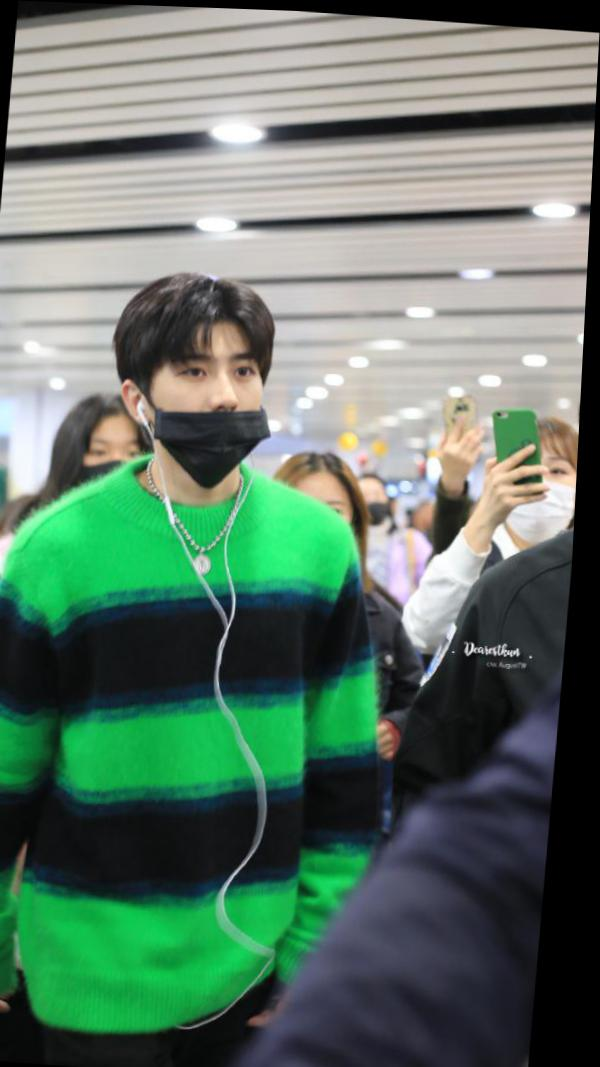OK: (510, 438, 583, 539), (74, 423, 151, 510)
WRONG: (148, 329, 273, 483)
